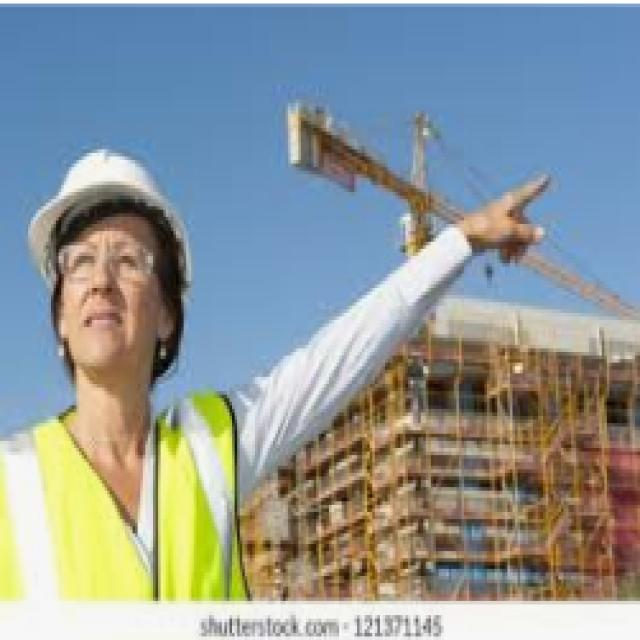glasses: (49, 233, 170, 293)
